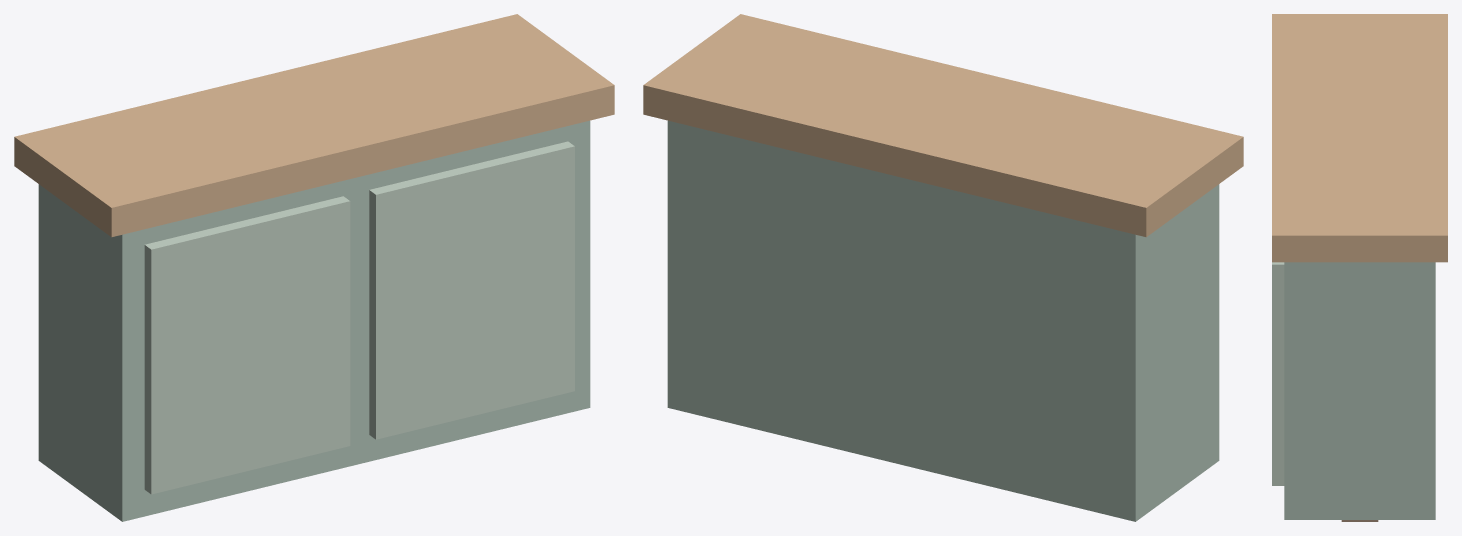
The model's file is sideboard.glb.
3 renders of one model, left to right at view 1: azimuth 30°, elevation 25°; view 2: azimuth 150°, elevation 25°; view 3: azimuth 270°, elevation 25°, orthographic. The views are drawn at different scales.
Parts seen in each view (by area): view 1: top, sideboard-body, door-left, door-right; view 2: sideboard-body, top; view 3: top, sideboard-body, door-right.
Part boxes in pixels (<box>): top: <box>14,14,614,237</box>; sideboard-body: <box>38,120,590,521</box>; door-left: <box>144,196,350,494</box>; door-right: <box>369,141,574,439</box>; sideboard-body: <box>667,120,1219,521</box>; top: <box>643,14,1243,237</box>; top: <box>1272,14,1447,262</box>; sideboard-body: <box>1284,262,1435,519</box>; door-right: <box>1272,262,1284,485</box>.
Bounding box in the file's own units: 2.15 × 1.41 × 0.72.
